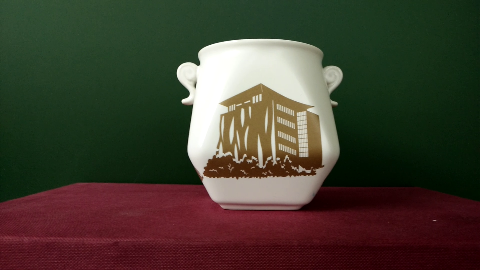library: (214, 90, 315, 171)
